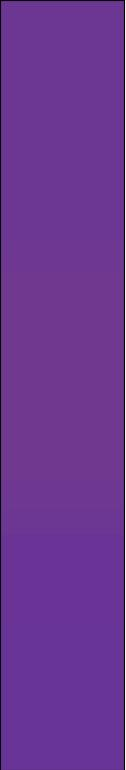safe: (6, 9, 114, 760)
